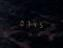five: (36, 20, 41, 28)
four: (30, 19, 35, 28)
seven: (24, 19, 29, 27)
zero: (18, 18, 23, 27)
